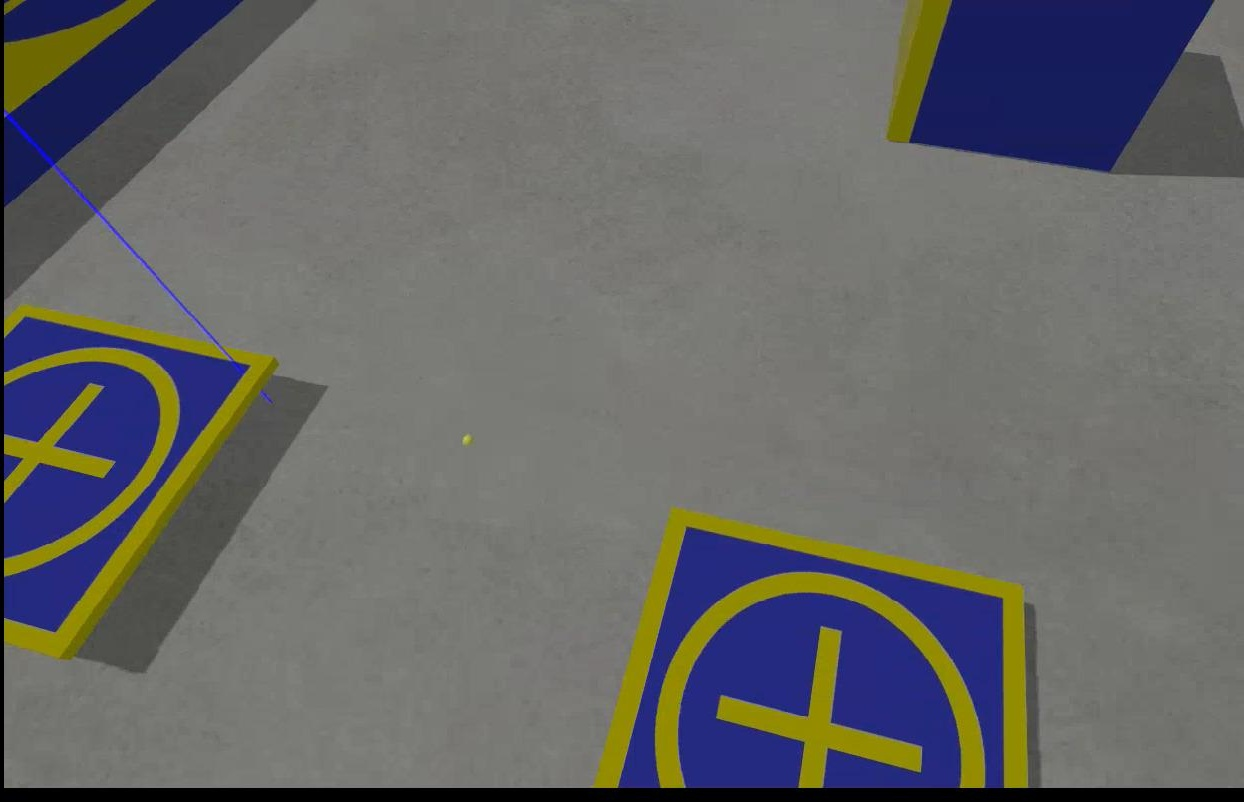large_base: (3, 1, 251, 202)
small_base: (590, 508, 1027, 791), (0, 301, 277, 657)
